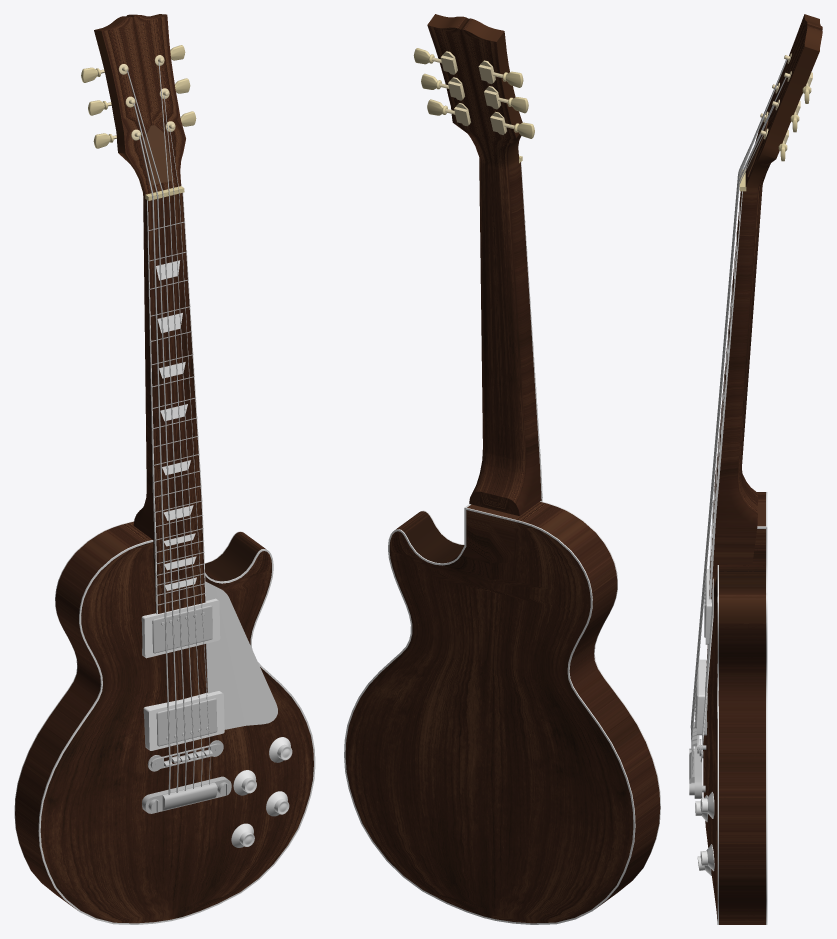
Rendered from Gibson_Les_Paul_Wip.glb.
The picture shows the model from 3 angles, left to right: view 1: azimuth 30°, elevation 25°; view 2: azimuth 150°, elevation 25°; view 3: azimuth 270°, elevation 25°; orthographic projection. The views are drawn at different scales.
Parts seen in each view (by area): view 1: Plane, Plane.001, Cube.001, Plane.008, Plane.003, Cube, BezierCurve.005, BezierCurve.004, BezierCurve.003, BezierCurve.002, BezierCurve.001, Cube.003 (+1 smaller); view 2: Plane, Plane.001, Plane.003; view 3: Plane, Plane.001, Cube.001, BezierCurve.003, BezierCurve, Plane.003, BezierCurve.001, BezierCurve.004, Cube, BezierCurve.005, BezierCurve.002, Plane.008.
Boxes of the visible parts, bbox=[...] form: Plane: bbox=[14, 521, 315, 924]; Plane.001: bbox=[94, 14, 206, 614]; Cube.001: bbox=[141, 598, 224, 750]; Plane.008: bbox=[205, 581, 277, 729]; Plane.003: bbox=[81, 45, 196, 148]; Cube: bbox=[142, 776, 231, 813]; BezierCurve.005: bbox=[139, 136, 170, 794]; BezierCurve.004: bbox=[133, 103, 178, 792]; BezierCurve.003: bbox=[127, 70, 186, 790]; BezierCurve.002: bbox=[158, 61, 194, 788]; BezierCurve.001: bbox=[164, 95, 202, 786]; Cube.003: bbox=[147, 740, 223, 771]; Plane: bbox=[344, 501, 660, 924]; Plane.001: bbox=[427, 14, 542, 516]; Plane.003: bbox=[413, 48, 534, 138]; Plane: bbox=[703, 492, 767, 924]; Plane.001: bbox=[709, 14, 822, 599]; Cube.001: bbox=[694, 569, 711, 735]; BezierCurve.003: bbox=[691, 59, 787, 761]; BezierCurve: bbox=[691, 135, 763, 773]; Plane.003: bbox=[760, 53, 812, 161]; BezierCurve.001: bbox=[691, 106, 774, 770]; BezierCurve.004: bbox=[691, 92, 772, 757]; Cube: bbox=[689, 745, 705, 798]; BezierCurve.005: bbox=[690, 117, 764, 753]; BezierCurve.002: bbox=[691, 77, 786, 765]; Plane.008: bbox=[700, 578, 713, 762].
Size of the model in its own units: 0.356 by 1.07 by 0.1473.
Materials: 11 (2 with a texture image).
